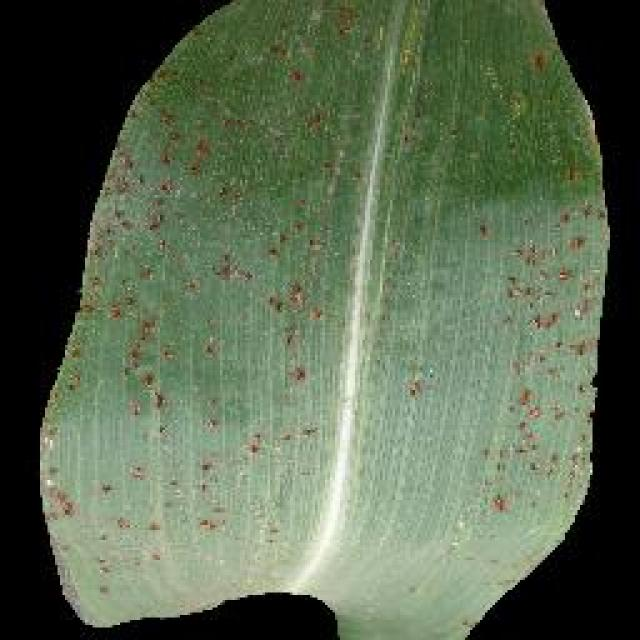Corn Common Rust: (82, 80, 550, 585)
